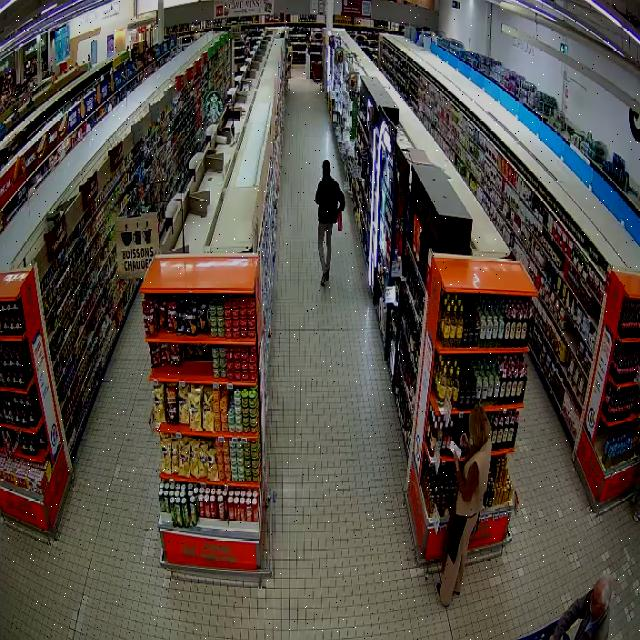article: (338, 212, 342, 231)
hands: (460, 433, 469, 451), (453, 452, 459, 472)
person: (436, 406, 490, 606), (315, 159, 345, 284), (554, 578, 611, 639)
